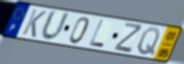0: (68, 16, 91, 45)
K: (20, 8, 48, 39)
L: (88, 19, 106, 49)
Q: (136, 27, 162, 58)
U: (39, 9, 71, 43)
Z: (112, 21, 144, 55)
